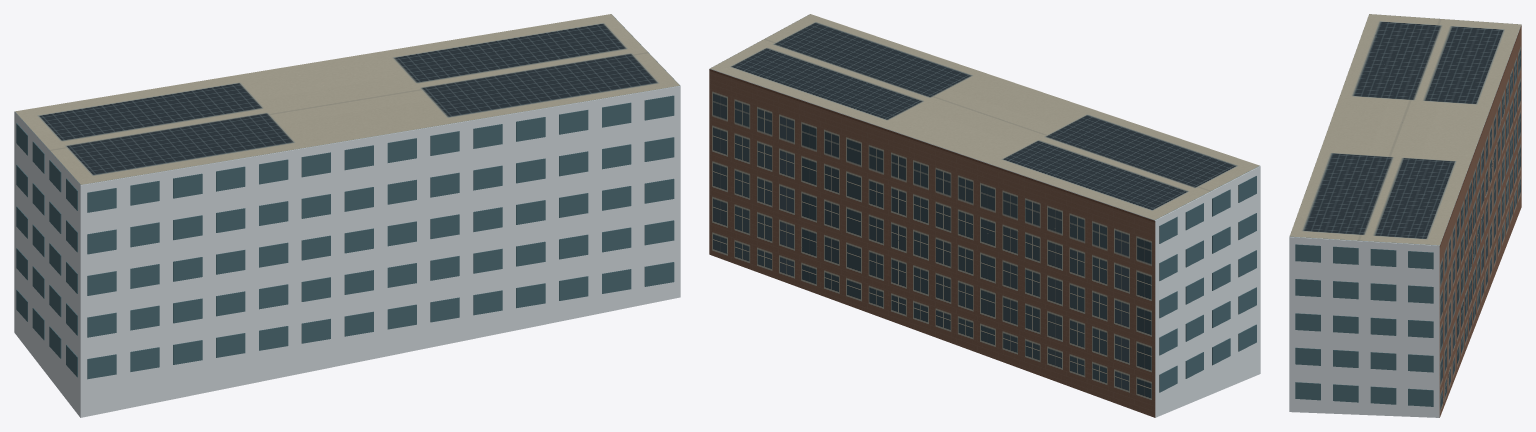
The model's file is intact.glb.
3 renders of one model, left to right at view 1: azimuth 30°, elevation 25°; view 2: azimuth 150°, elevation 25°; view 3: azimuth 270°, elevation 25°, orthographic. The views are drawn at different scales.
Visible parts, largest first — view 1: SM_grad_Intact_00, SM_grad_Intact_01; view 2: SM_grad_Intact_00, SM_grad_Intact_01; view 3: SM_grad_Intact_00, SM_grad_Intact_01.
Boxes of the visible parts, x1,y1,x2,y2 form: SM_grad_Intact_00: (14, 14, 680, 417); SM_grad_Intact_01: (16, 95, 674, 379); SM_grad_Intact_00: (709, 14, 1260, 417); SM_grad_Intact_01: (1159, 176, 1256, 392); SM_grad_Intact_00: (1289, 14, 1521, 417); SM_grad_Intact_01: (1295, 244, 1433, 406).
Size of the model in its own units: 2.2 by 0.8532 by 0.9314.
Materials: 5 (2 with a texture image).
